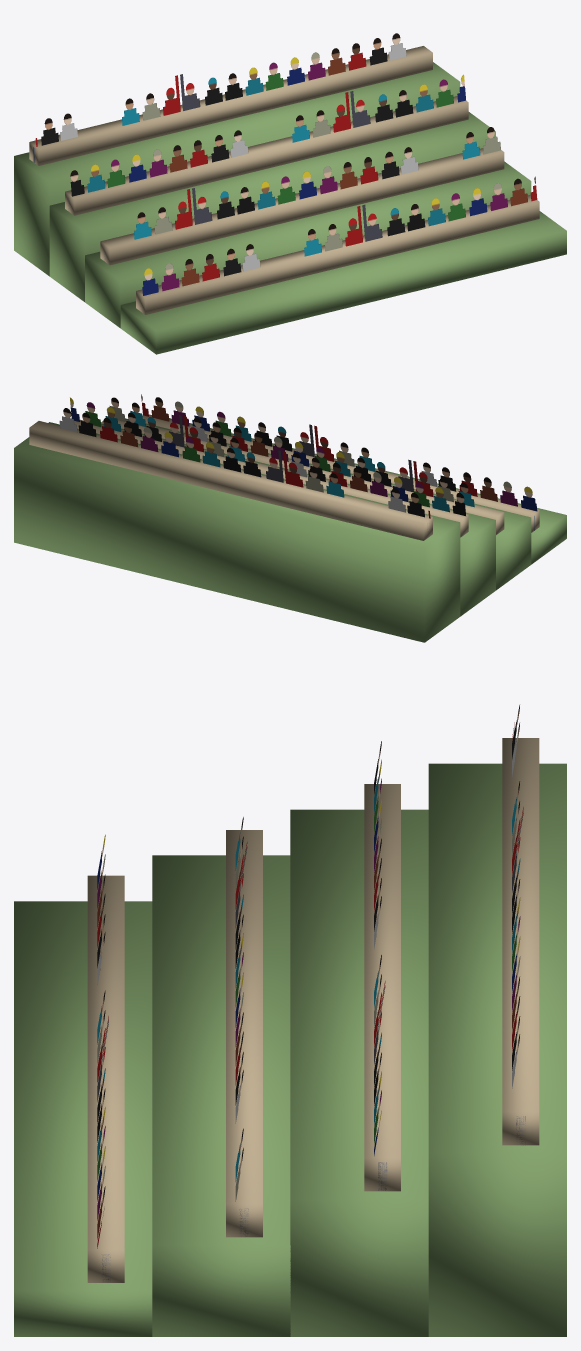
Rendered from banking_seats_crowd.glb.
The picture shows the model from 3 angles, top to bottom: view 1: azimuth 30°, elevation 25°; view 2: azimuth 150°, elevation 25°; view 3: azimuth 270°, elevation 25°; orthographic projection. The views are drawn at different scales.
Parts seen in each view (by area): view 1: banking_seats_crowd; view 2: banking_seats_crowd; view 3: banking_seats_crowd.
Part boxes in pixels (bbox=[...]): banking_seats_crowd: bbox=[14, 33, 566, 354]; banking_seats_crowd: bbox=[14, 394, 566, 642]; banking_seats_crowd: bbox=[14, 705, 566, 1336].
Bounding box in the file's own units: 10 × 3.4 × 6.
Materials: 4 (1 with a texture image).
